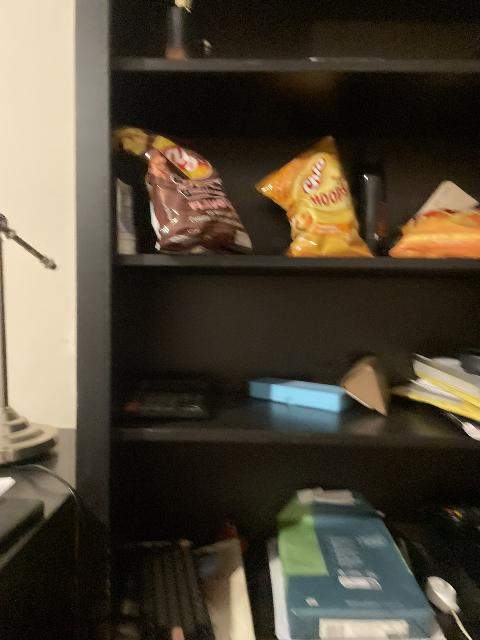Chio Cascaval 125g: (388, 181, 480, 259)
Chio Hula Hoops Cheese 70g: (253, 135, 373, 257)
Lays Beef Grilled Ribs 125g: (114, 127, 253, 256)
